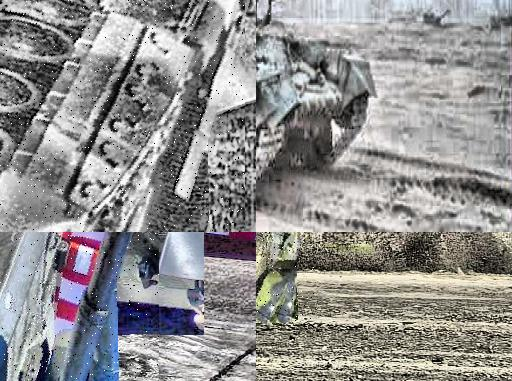tanks: (1, 1, 243, 233), (1, 233, 132, 381), (257, 34, 372, 182), (257, 233, 304, 326), (258, 5, 272, 27)
